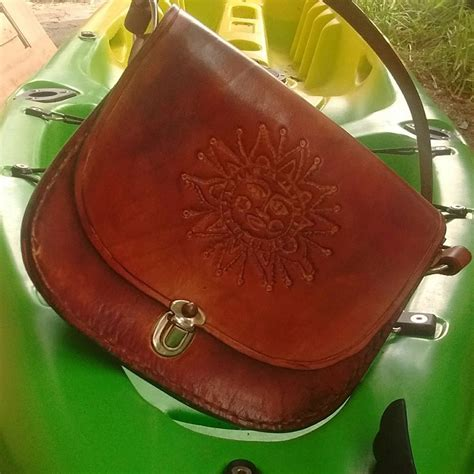cuero: (24, 1, 448, 434)
